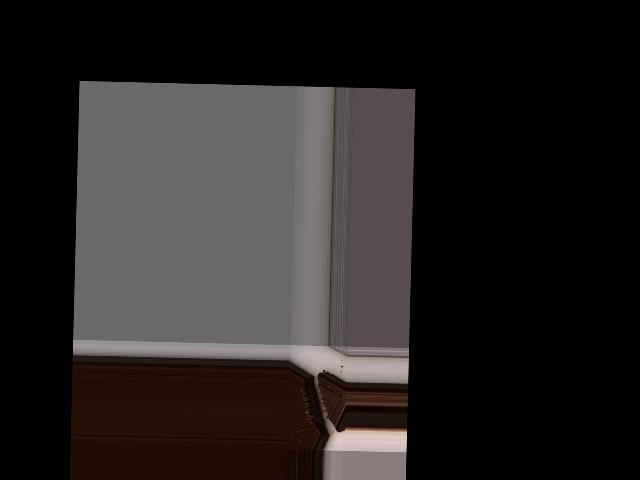chocolate: (287, 359, 347, 450)
